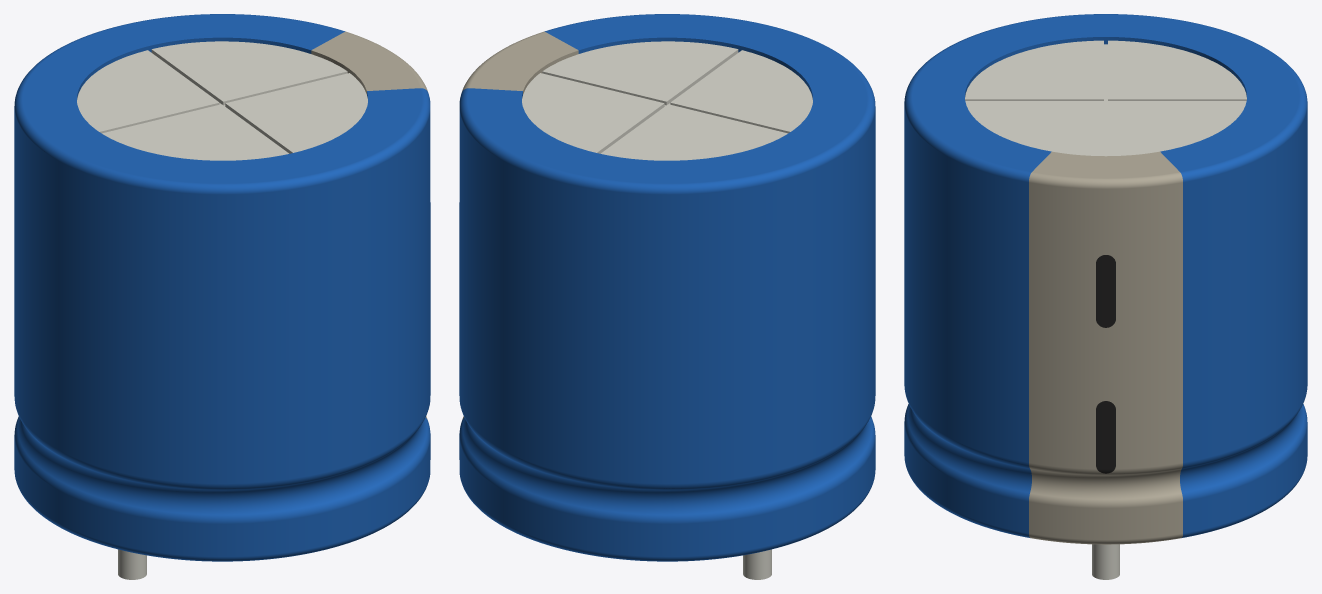
The model's file is cp_radial_d10_0mm_p5_00mm.glb.
The picture shows the model from 3 angles, left to right: view 1: azimuth 30°, elevation 25°; view 2: azimuth 150°, elevation 25°; view 3: azimuth 270°, elevation 25°; orthographic projection. The views are drawn at different scales.
Visible parts, largest first — view 1: cap_elec_d10, pin_1; view 2: cap_elec_d10, pin_1; view 3: cap_elec_d10, pin_2.
Boxes of the visible parts, x1=… form: cap_elec_d10: x1=14, y1=14, x2=430, y2=561; pin_1: x1=118, y1=549, x2=146, y2=579; cap_elec_d10: x1=459, y1=14, x2=875, y2=561; pin_1: x1=743, y1=549, x2=771, y2=579; cap_elec_d10: x1=904, y1=14, x2=1307, y2=544; pin_2: x1=1092, y1=544, x2=1119, y2=579.
Size of the model in its own units: 0.01 by 0.012 by 0.01.
